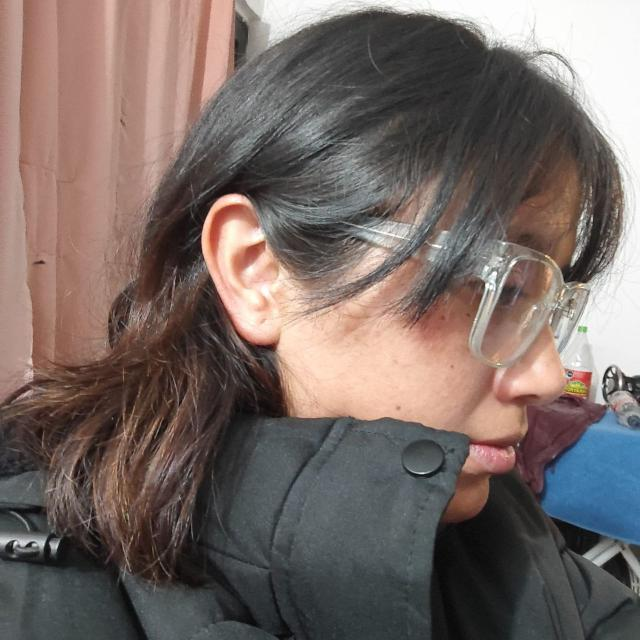ear: (201, 194, 281, 346)
